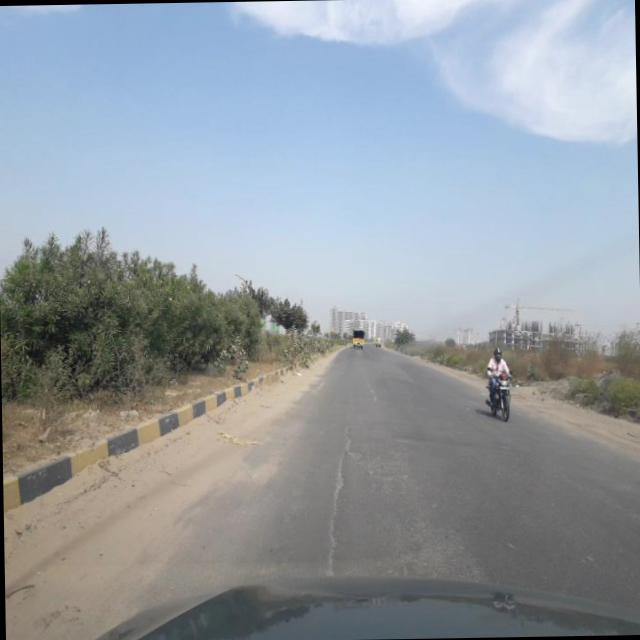pothole: (318, 416, 356, 578)
